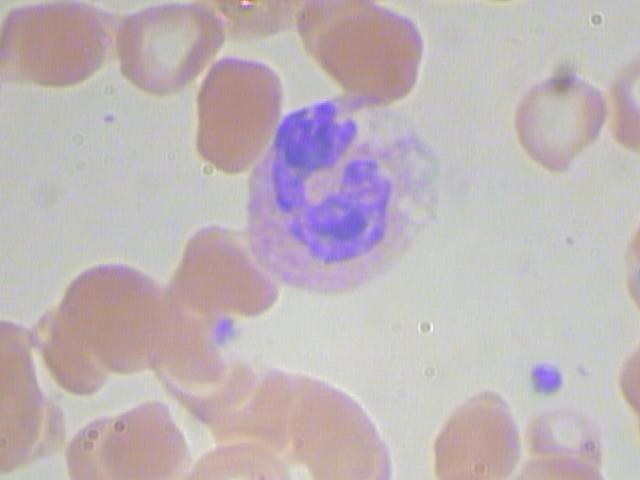Platelets: (524, 357, 574, 398), (209, 310, 242, 347)
Red Blood Cells: (186, 54, 290, 174), (108, 1, 228, 104), (507, 63, 609, 180), (314, 5, 428, 101), (1, 1, 114, 96), (287, 383, 397, 479), (61, 261, 165, 359), (426, 383, 529, 479), (98, 393, 193, 479), (517, 405, 620, 474)
White Blood Cells: (242, 87, 466, 301)
